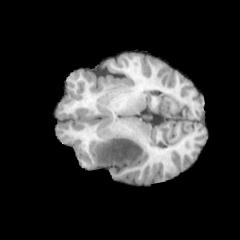glioma: (94, 136, 143, 166)
